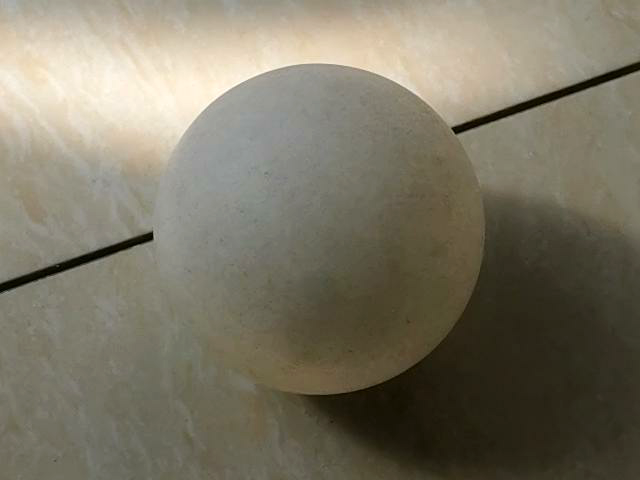ball: (154, 61, 487, 396)
